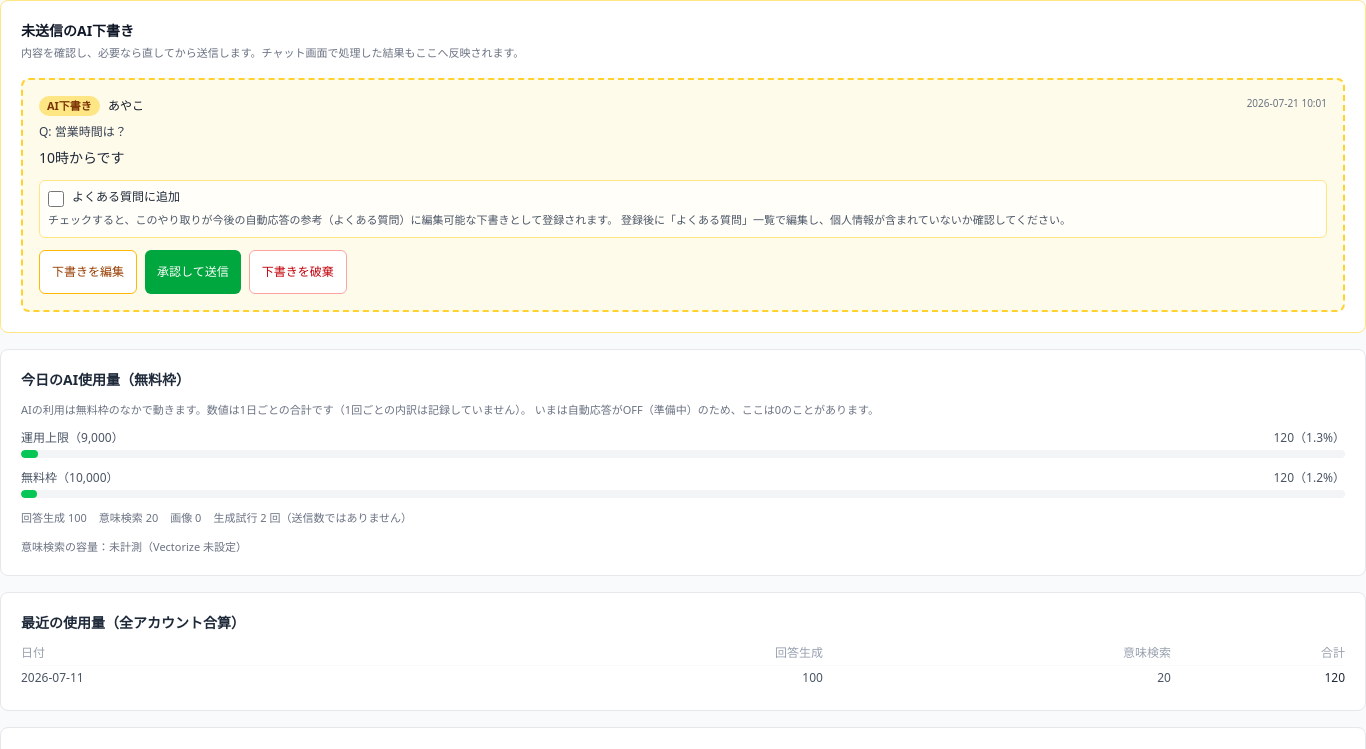
Test: /knowledge page — AI ログ・コストタブ › 中央の下書き受信箱だけが pending 草案を編集し、成功をその場で反映する
This screenshot has width=1366, height=749.
Check: the text "あやこ" is shown, box [108, 98, 144, 114]
Check: the text "10時からです" is shown, box [39, 148, 125, 167]
Click the button "下書きを編集": {"x": 88, "y": 272} [39, 250, 137, 294]
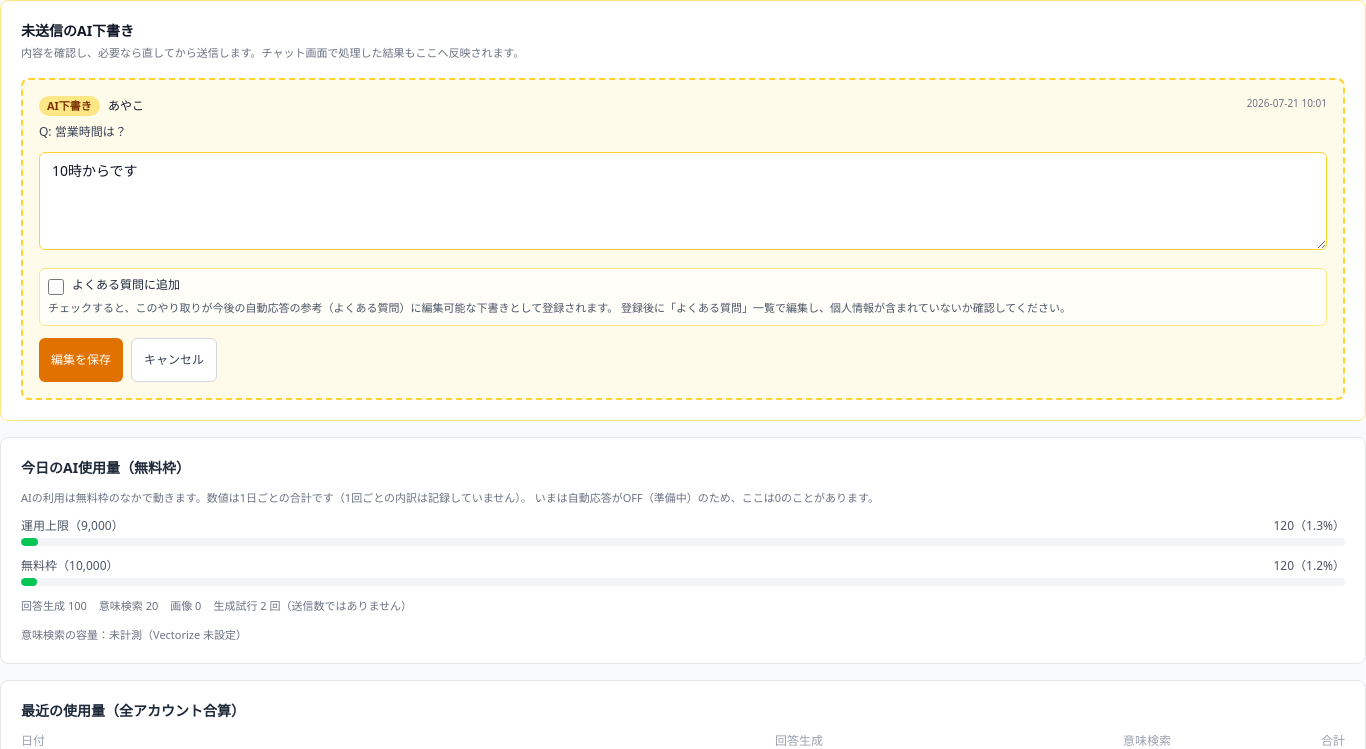
Replace the text in the text box named "AI下書き本文" with "11時から営業します": {"x": 683, "y": 201} [39, 152, 1327, 250]
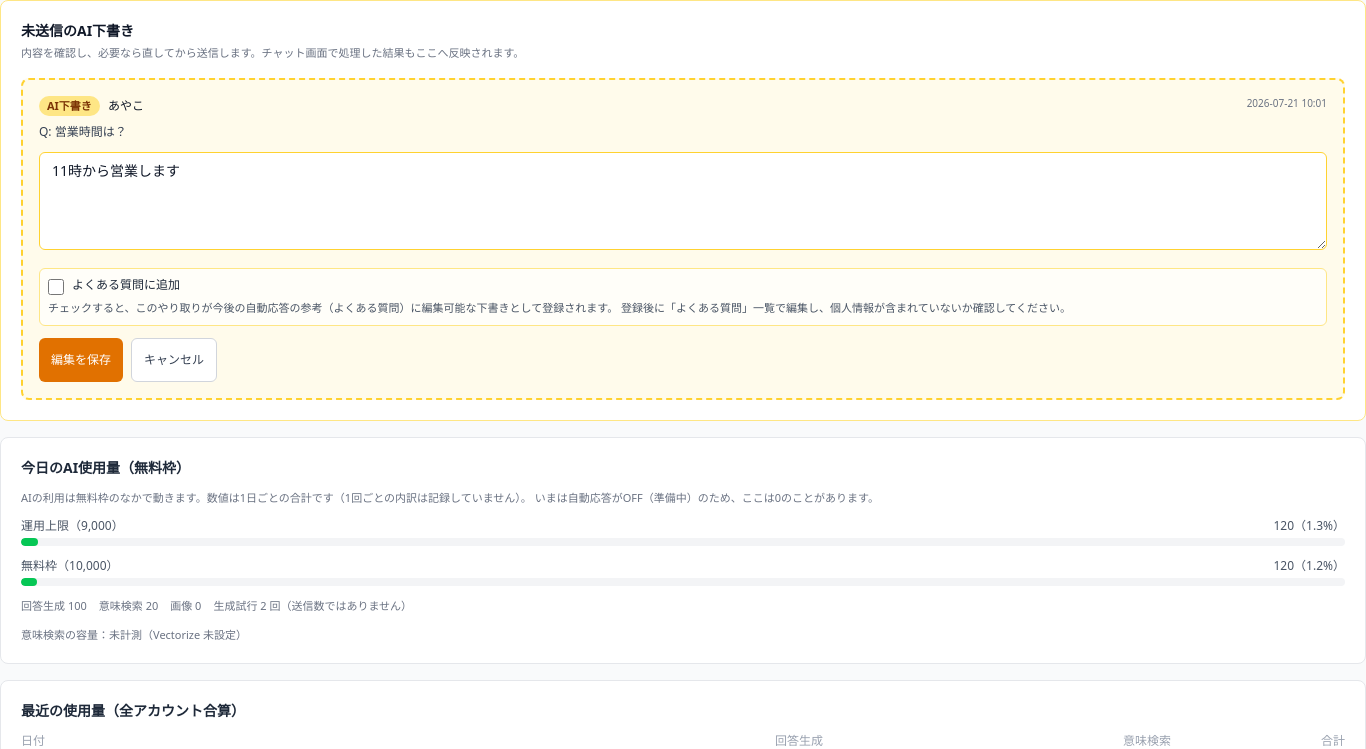
Click the button "編集を保存": {"x": 81, "y": 360} [39, 338, 123, 382]
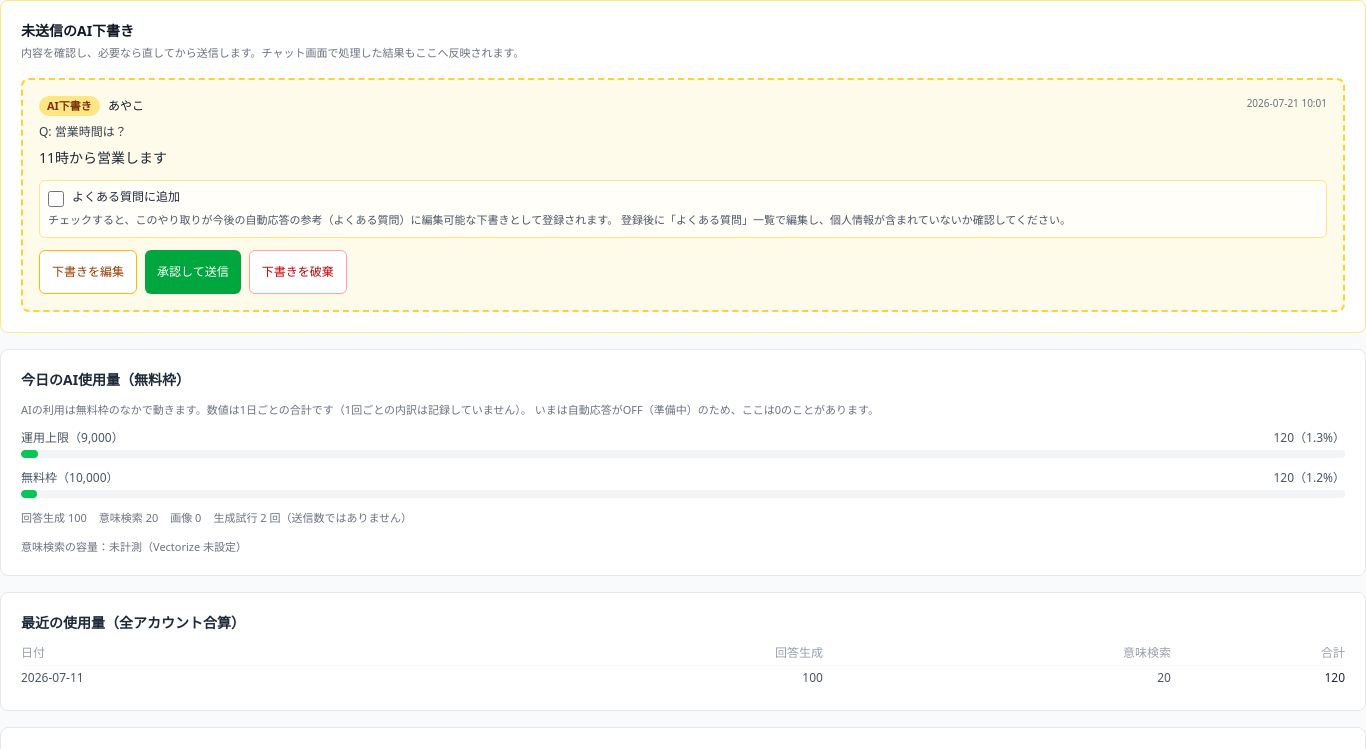
Check: the text "11時から営業します" is shown, box [39, 148, 167, 167]
